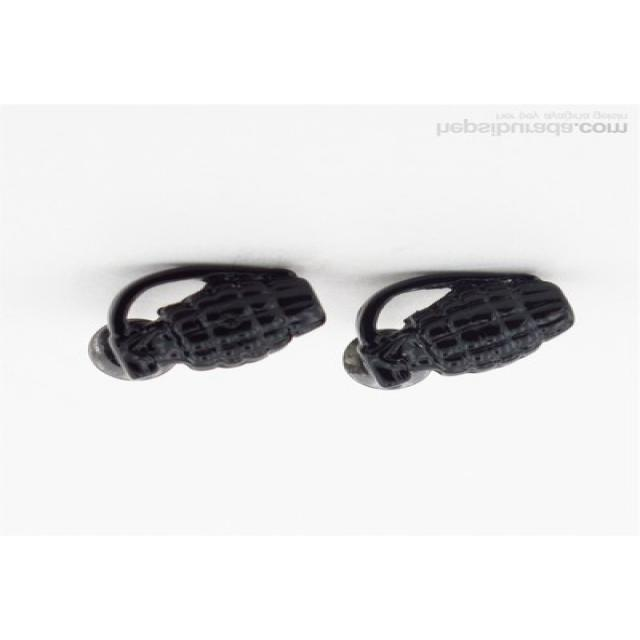grenade: (333, 267, 582, 395), (100, 265, 328, 381)
